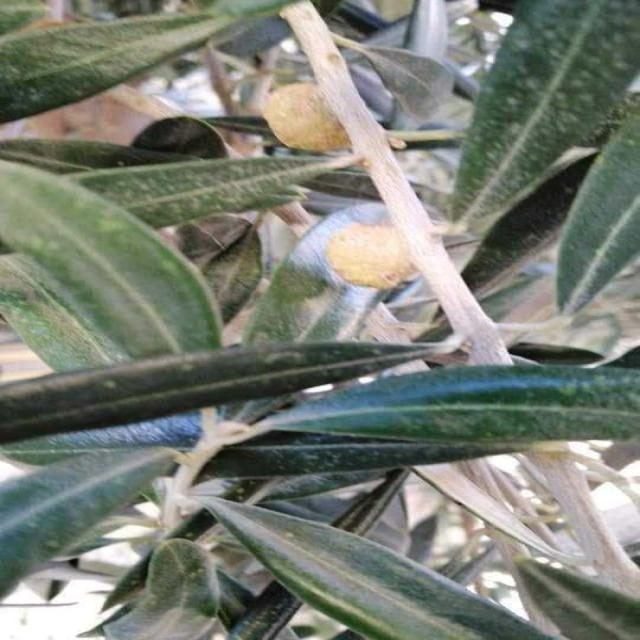Tuberculosis: (324, 222, 411, 291), (262, 82, 346, 153)
